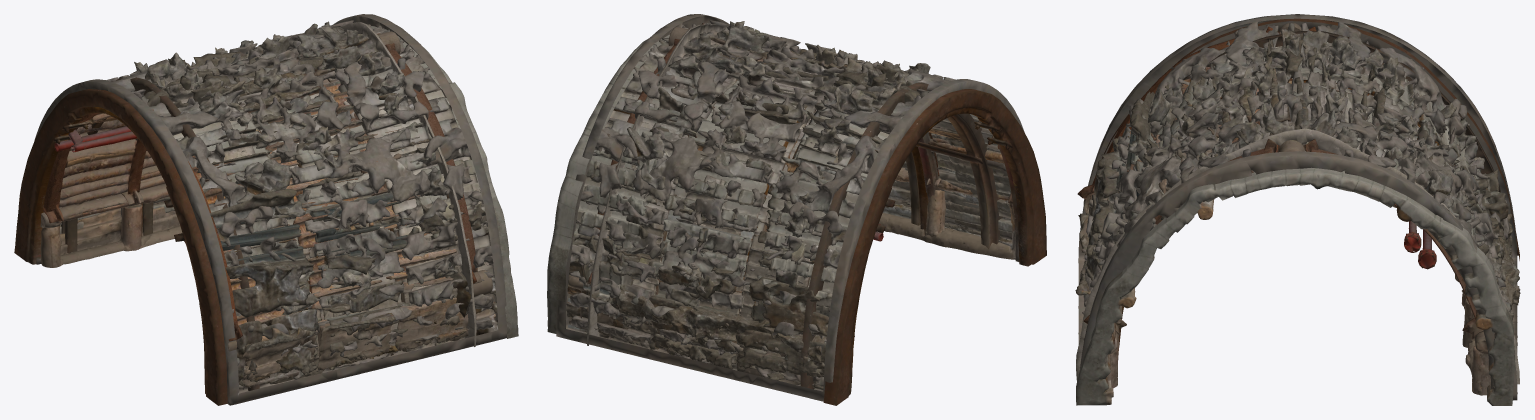
File: MineAlt_Boegen.glb
The picture shows the model from 3 angles, left to right: view 1: azimuth 30°, elevation 25°; view 2: azimuth 150°, elevation 25°; view 3: azimuth 270°, elevation 25°; orthographic projection. The views are drawn at different scales.
Parts seen in each view (by area): view 1: bogen_d, bogen_a, bogen_b, bogen_c; view 2: bogen_d, bogen_a, bogen_c, bogen_b; view 3: bogen_d, bogen_a, bogen_c, bogen_b.
Part boxes in pixels (x1=…): bogen_d: x1=34, y1=14, x2=507, y2=405; bogen_a: x1=14, y1=26, x2=518, y2=405; bogen_b: x1=40, y1=31, x2=492, y2=387; bogen_c: x1=61, y1=21, x2=476, y2=390; bogen_d: x1=556, y1=14, x2=1024, y2=401; bogen_a: x1=547, y1=23, x2=1046, y2=405; bogen_c: x1=587, y1=21, x2=1002, y2=389; bogen_b: x1=568, y1=23, x2=1015, y2=369; bogen_d: x1=1078, y1=14, x2=1517, y2=400; bogen_a: x1=1076, y1=18, x2=1519, y2=405; bogen_c: x1=1076, y1=28, x2=1519, y2=384; bogen_b: x1=1075, y1=23, x2=1520, y2=395.
Bounding box in the file's own units: 4.9 × 3.77 × 5.96.
Materials: 4 (4 with a texture image).
